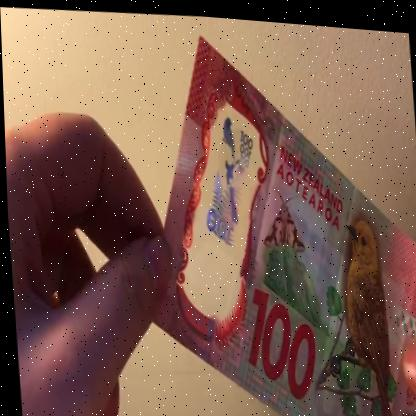100B: (198, 102, 261, 256)
